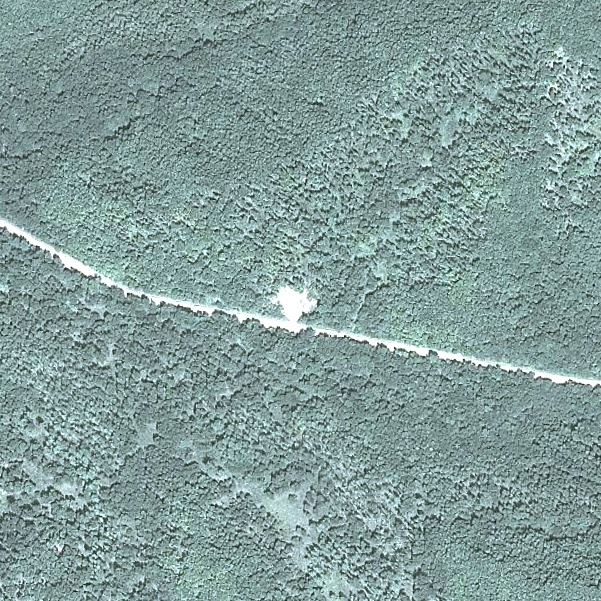slope: (272, 283, 319, 320)
